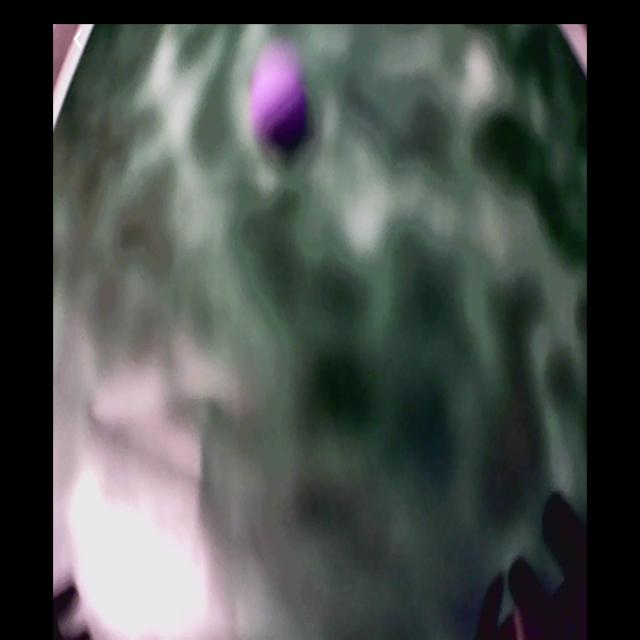ball: (252, 45, 310, 145)
